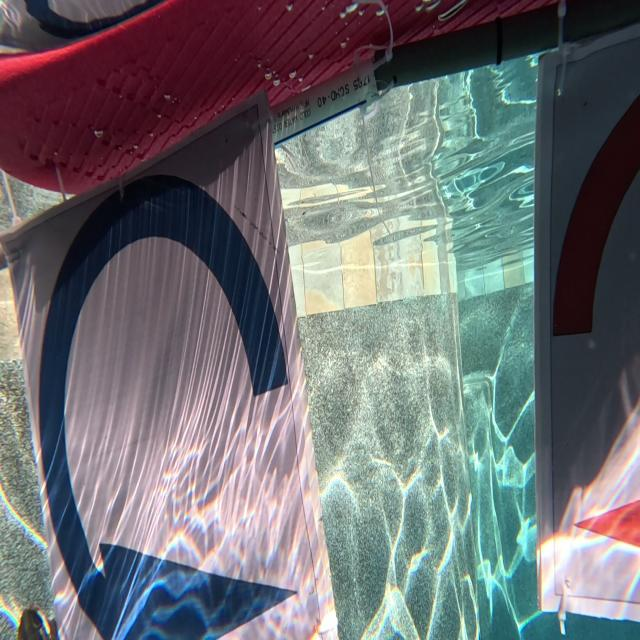blue_side: (26, 187, 311, 628)
red_side: (543, 61, 640, 608)
